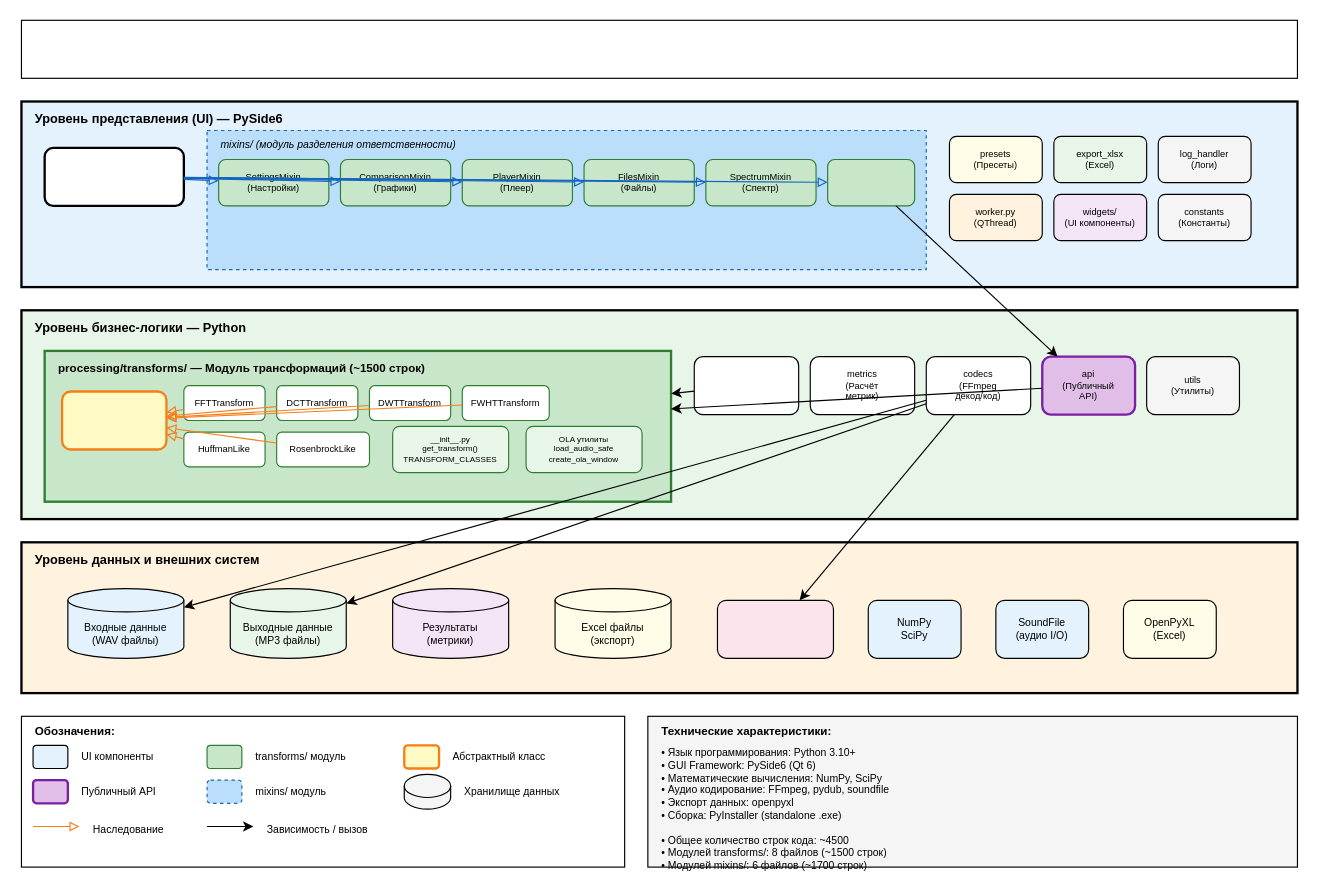
This 1318x893 diagram has some shape labels left out. Here are the shapes that lost their labels. From the top down, the box of each, then its label:
(20, 19, 1297, 78): Архитектура системы «AudioAnalyzer v2.0» Лист 1 из 1
(43, 146, 184, 206): MainWindow (Главное окно)
(826, 158, 915, 206): WorkerMixin (Обработка)
(693, 356, 799, 415): audio_ops (Standard MP3 re-exports)
(60, 390, 167, 450): BaseTransform (Абстрактный) ~480 строк
(716, 599, 833, 658): FFmpeg (кодек MP3)
